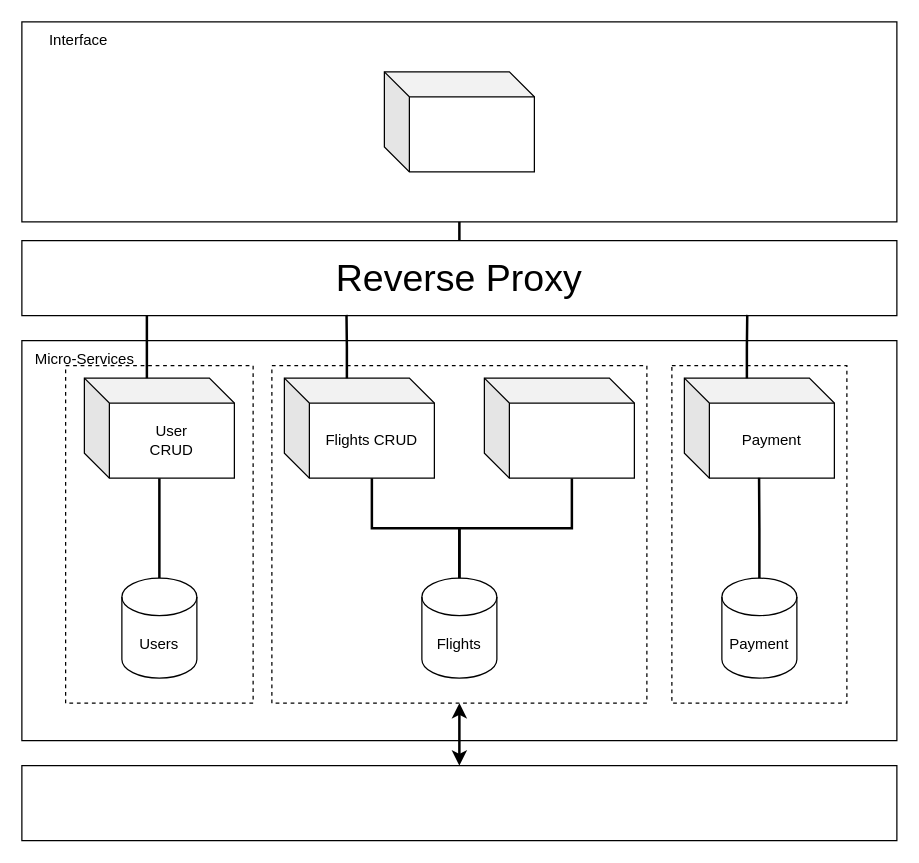
The diagram is 919 pixels wide and 863 high, and some of its shapes have lost their labels. The shapes that lost their labels are listed below. From the top down, each one's centre as x and y in pixels, then its label:
At pixel 458 121: "User Interface".
At pixel 558 427: "Live Data Receiver".
At pixel 459 802: "Message Queue".
